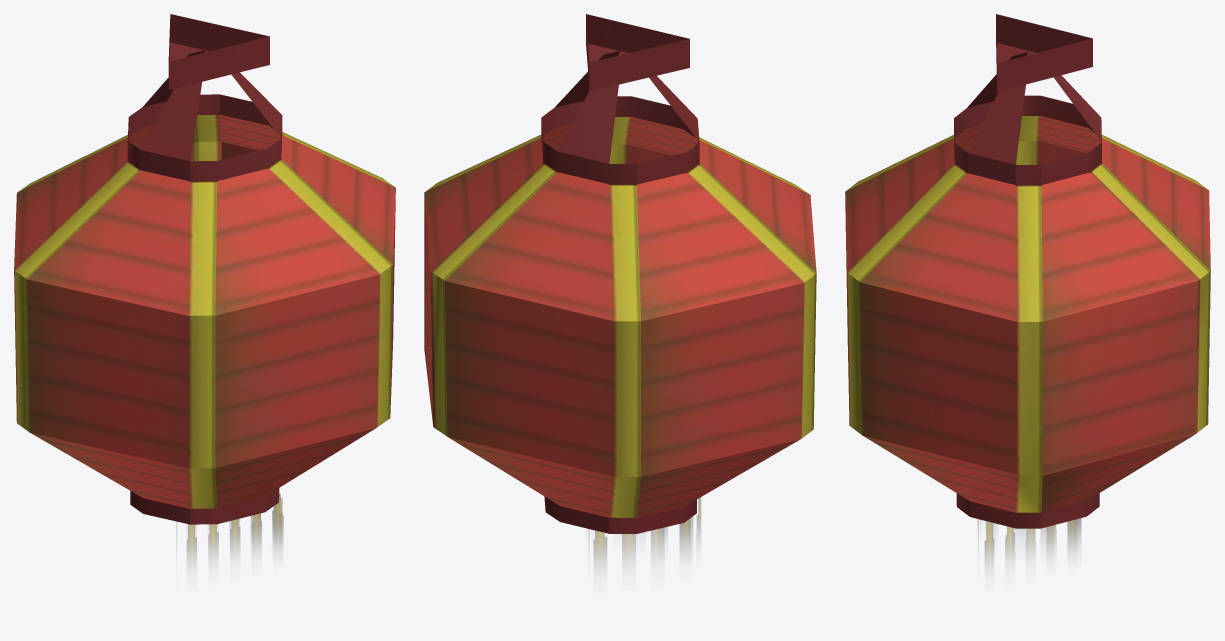
File: pm-lamp-02.glb
The picture shows the model from 3 angles, left to right: view 1: azimuth 30°, elevation 25°; view 2: azimuth 150°, elevation 25°; view 3: azimuth 270°, elevation 25°; orthographic projection.
Visible parts, largest first — view 1: Lamp02; view 2: Lamp02; view 3: Lamp02.
Part boxes in pixels (x1,y1,x2,y2): Lamp02: (14, 14, 395, 570); Lamp02: (424, 14, 816, 572); Lamp02: (845, 14, 1210, 571).
Bounding box in the file's own units: 1.28 × 1.85 × 1.1.
2 materials, 2 textured.
